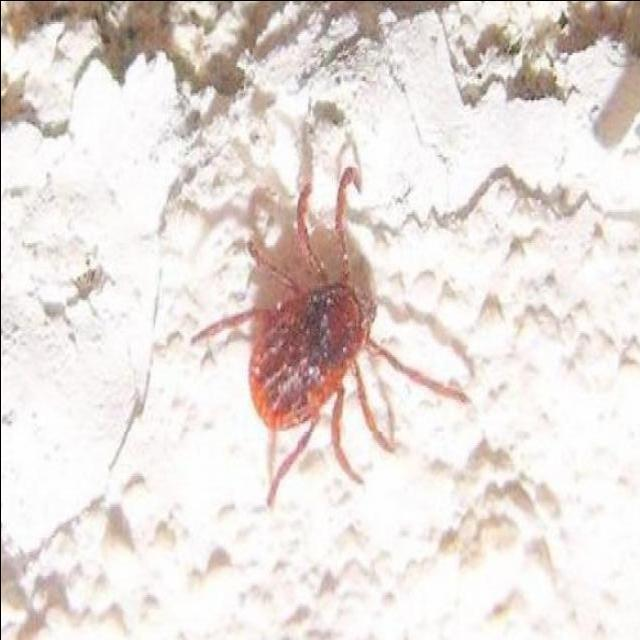Rhipicephalus Sanguineus-F: (188, 135, 469, 508)
